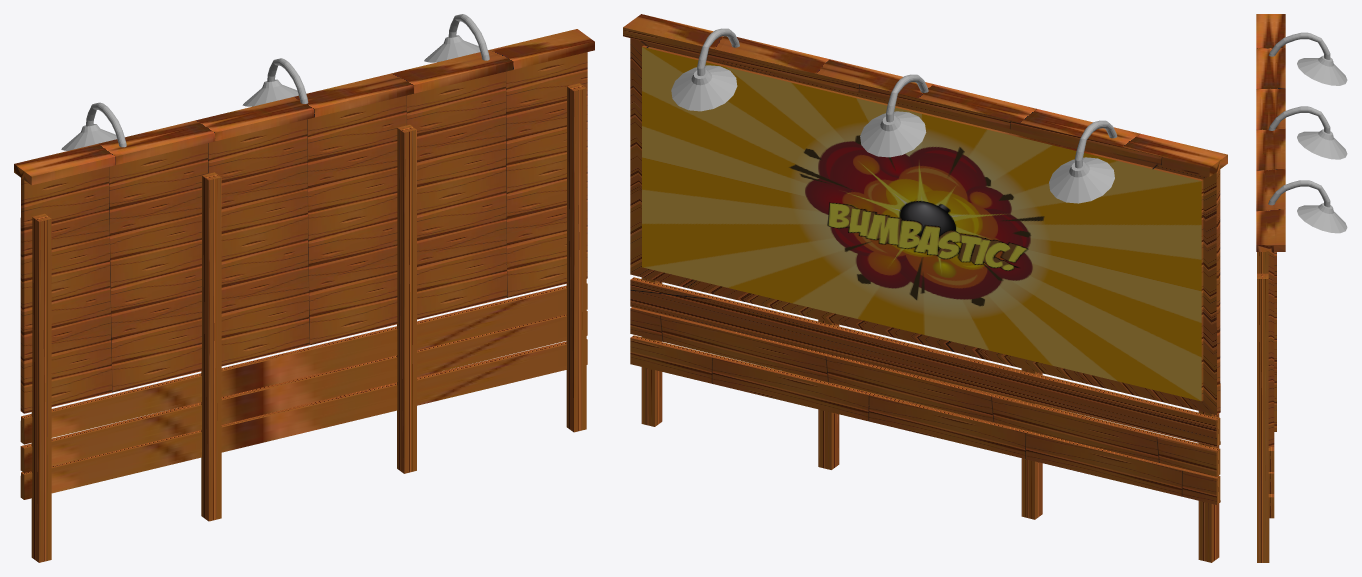
The model's file is WoodSign.fbx.
3 views of the same model, side by side, from view 1: azimuth 30°, elevation 25°; view 2: azimuth 150°, elevation 25°; view 3: azimuth 270°, elevation 25° (orthographic). The views are drawn at different scales.
Parts seen in each view (by area): view 1: Cube, Circle, Circle.001, Circle.002; view 2: Cube, Circle, Circle.002, Circle.001; view 3: Cube, Circle, Circle.001, Circle.002, Cylinder, Cylinder.002, Cylinder.001.
Part boxes in pixels (box(x1,y1,x2,y2)): Cube: box(14, 29, 594, 562); Circle: box(424, 35, 480, 62); Circle.001: box(242, 79, 298, 106); Circle.002: box(61, 124, 116, 150); Cube: box(623, 14, 1227, 562); Circle: box(671, 65, 737, 111); Circle.002: box(1049, 157, 1114, 203); Circle.001: box(860, 111, 926, 157); Cube: box(1256, 14, 1285, 562); Circle: box(1297, 203, 1347, 233); Circle.001: box(1297, 129, 1347, 159); Circle.002: box(1297, 55, 1347, 85); Cylinder: box(1268, 180, 1330, 207); Cylinder.002: box(1268, 32, 1330, 59); Cylinder.001: box(1268, 106, 1330, 133).
Bounding box in the file's own units: 577 × 406 × 96.93.
